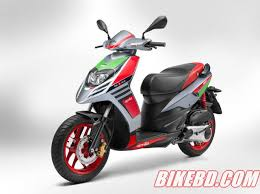scooter: (51, 14, 228, 180)
